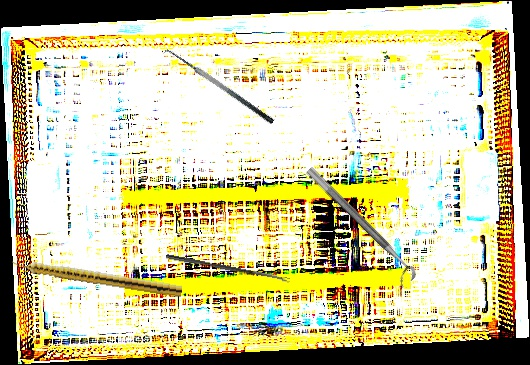Fixation Ring: (296, 165, 420, 290)
Handpiece: (10, 255, 184, 298)
Spatula Surgical: (160, 43, 275, 134)
Surgical Spoon: (165, 254, 291, 283)
